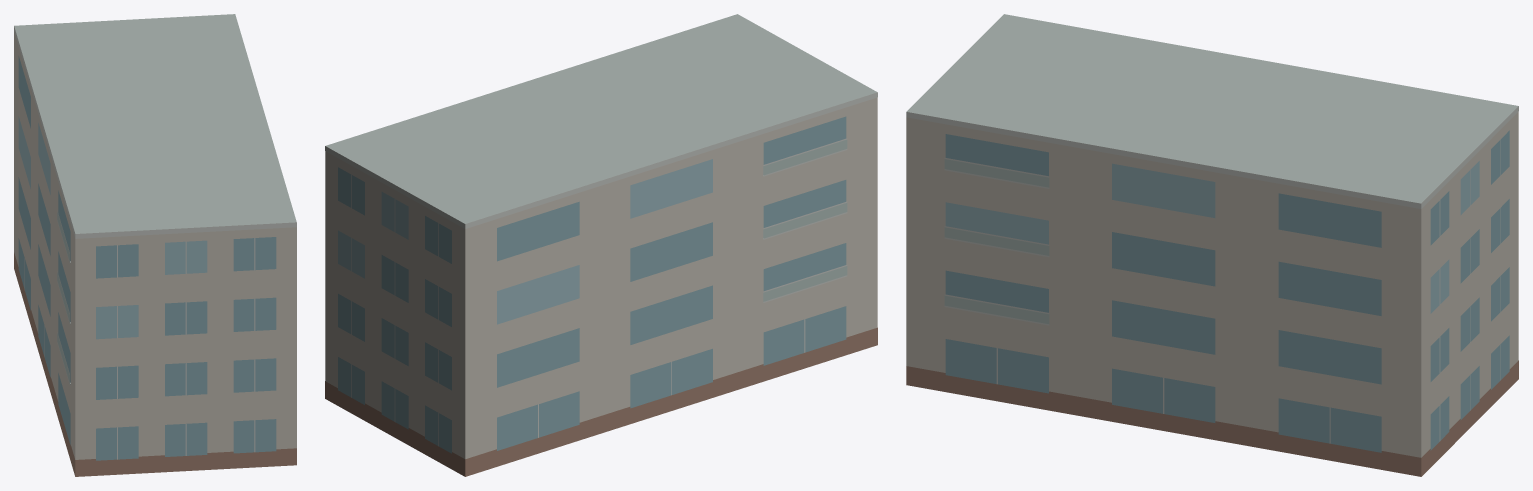
File: residential-21073e3d-18e1-420d-9be9-348ac150b222.glb
The picture shows the model from 3 angles, left to right: view 1: azimuth 30°, elevation 25°; view 2: azimuth 150°, elevation 25°; view 3: azimuth 270°, elevation 25°; orthographic projection. The views are drawn at different scales.
Parts seen in each view (by area): view 1: residential-21073e3d-18e1-420d-9be9-348ac150b222.tmp; view 2: residential-21073e3d-18e1-420d-9be9-348ac150b222.tmp; view 3: residential-21073e3d-18e1-420d-9be9-348ac150b222.tmp.
Part boxes in pixels (bbox=[...]): residential-21073e3d-18e1-420d-9be9-348ac150b222.tmp: bbox=[14, 14, 296, 476]; residential-21073e3d-18e1-420d-9be9-348ac150b222.tmp: bbox=[325, 14, 877, 476]; residential-21073e3d-18e1-420d-9be9-348ac150b222.tmp: bbox=[906, 14, 1518, 476].
Bounding box in the file's own units: 18.16 × 12.2 × 24.79.
